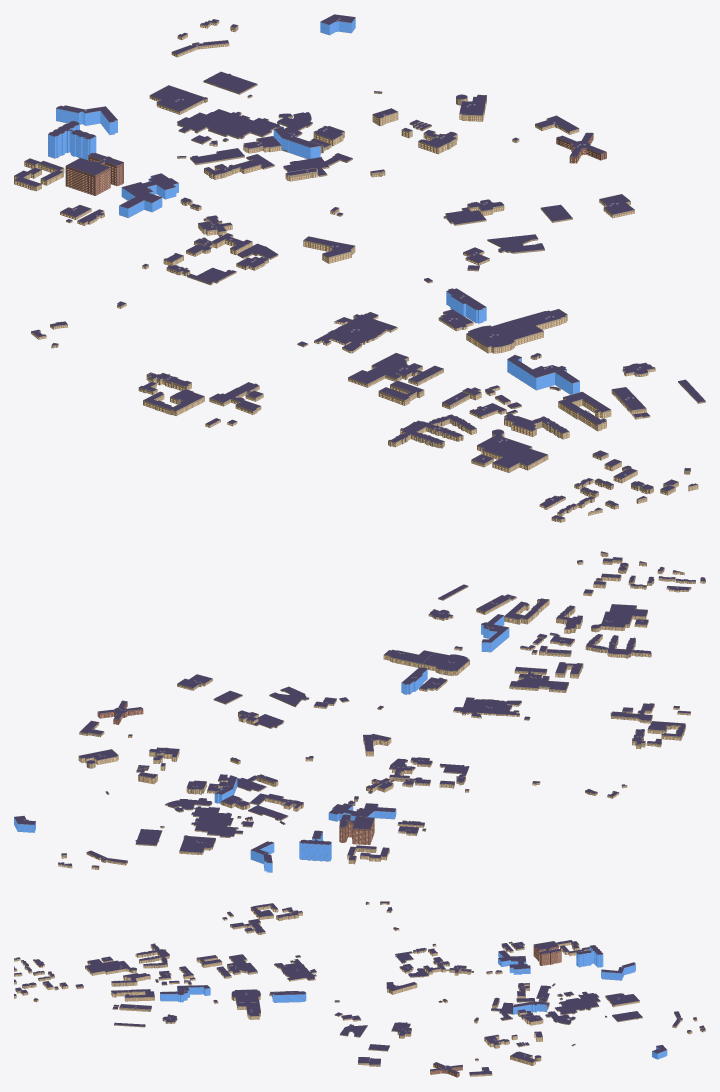
File: campus-rest.glb
3 views of the same model, one above another, from view 1: azimuth 30°, elevation 25°; view 2: azimuth 150°, elevation 25°; view 3: azimuth 270°, elevation 25° (orthographic). The views are drawn at different scales.
Parts seen in each view (by area): view 1: campus-rest-1, campus-rest-2, campus-rest-0, campus-rest-3, campus-rest-4; view 2: campus-rest-1, campus-rest-2, campus-rest-0, campus-rest-3, campus-rest-4; view 3: campus-rest-1, campus-rest-2, campus-rest-0, campus-rest-3, campus-rest-4.
Part boxes in pixels (x1,y1,x2,y2): campus-rest-1: (143,14,579,516); campus-rest-2: (191,94,705,474); campus-rest-0: (14,105,613,509); campus-rest-3: (24,120,655,522); campus-rest-4: (177,109,698,495); campus-rest-1: (14,578,695,869); campus-rest-2: (78,560,606,827); campus-rest-0: (250,575,691,872); campus-rest-3: (283,561,705,864); campus-rest-4: (191,551,622,837); campus-rest-1: (21,903,705,1076); campus-rest-2: (33,982,575,1077); campus-rest-0: (24,901,635,983); campus-rest-3: (14,912,603,1023); campus-rest-4: (14,981,600,1015).
Size of the model in its own units: 1288 by 43.95 by 2156.
